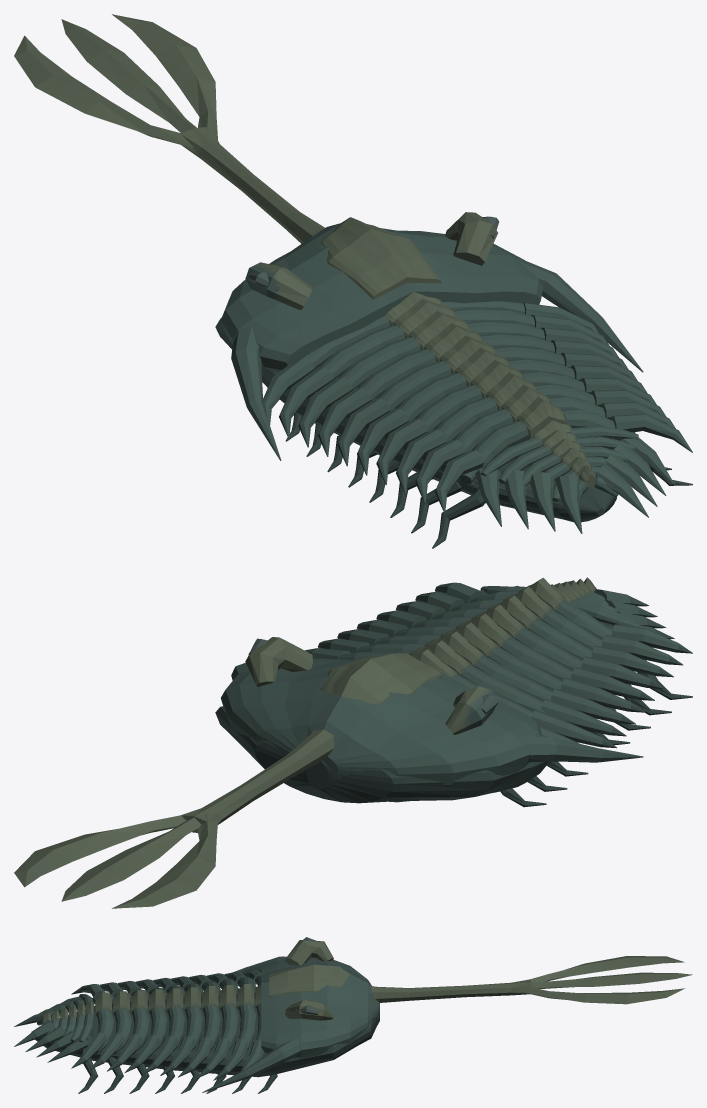
3 renders of one model, top to bottom at view 1: azimuth 30°, elevation 25°; view 2: azimuth 150°, elevation 25°; view 3: azimuth 270°, elevation 25°, orthographic. The views are drawn at different scales.
Parts seen in each view (by area): view 1: Broad vaulted cephalic shield, Cephalic axial glabella, Flattened keeled trident blade -1, Flattened keeled trident blade 1, Flattened keeled trident blade 0, Rigid anterior trident haft, Continuous ventral and articulating body, Curved genal spine -1, Curved genal spine 1, Eye peduncle 1, Eye peduncle -1, Bowed thoracic pleura -1 02 (+38 smaller); view 2: Broad vaulted cephalic shield, Continuous ventral and articulating body, Cephalic axial glabella, Rigid anterior trident haft, Flattened keeled trident blade 1, Flattened keeled trident blade -1, Flattened keeled trident blade 0, Eye peduncle 1, Curved genal spine -1, Eye peduncle -1, Bowed thoracic pleura -1 03, Bowed thoracic pleura -1 04 (+30 smaller); view 3: Broad vaulted cephalic shield, Continuous ventral and articulating body, Rigid anterior trident haft, Cephalic axial glabella, Flattened keeled trident blade 1, Flattened keeled trident blade 0, Flattened keeled trident blade -1, Curved genal spine 1, Eye peduncle -1, Eye peduncle 1, Bowed thoracic pleura 1 02, Bowed thoracic pleura 1 03 (+34 smaller).
Boxes of the visible parts, left/top/right/bottom form: Broad vaulted cephalic shield: left=220, top=223, right=543, bottom=372; Cephalic axial glabella: left=320, top=217, right=441, bottom=299; Flattened keeled trident blade -1: left=14, top=35, right=199, bottom=147; Flattened keeled trident blade 1: left=112, top=14, right=218, bottom=141; Flattened keeled trident blade 0: left=61, top=19, right=196, bottom=133; Rigid anterior trident haft: left=181, top=127, right=324, bottom=243; Continuous ventral and articulating body: left=215, top=317, right=616, bottom=522; Curved genal spine -1: left=231, top=326, right=281, bottom=460; Curved genal spine 1: left=518, top=260, right=643, bottom=372; Eye peduncle 1: left=445, top=212, right=497, bottom=265; Eye peduncle -1: left=245, top=262, right=312, bottom=309; Bowed thoracic pleura -1 02: left=314, top=325, right=405, bottom=393; Broad vaulted cephalic shield: left=221, top=658, right=542, bottom=802; Continuous ventral and articulating body: left=215, top=621, right=611, bottom=803; Cephalic axial glabella: left=320, top=653, right=441, bottom=703; Rigid anterior trident haft: left=181, top=729, right=334, bottom=832; Flattened keeled trident blade 1: left=14, top=811, right=198, bottom=887; Flattened keeled trident blade -1: left=112, top=813, right=218, bottom=908; Flattened keeled trident blade 0: left=61, top=817, right=200, bottom=901; Eye peduncle 1: left=245, top=637, right=312, bottom=686; Curved genal spine -1: left=518, top=735, right=643, bottom=762; Eye peduncle -1: left=445, top=686, right=495, bottom=734; Bowed thoracic pleura -1 03: left=460, top=664, right=545, bottom=713; Bowed thoracic pleura -1 04: left=473, top=655, right=553, bottom=701; Broad vaulted cephalic shield: left=261, top=957, right=379, bottom=1058; Continuous ventral and articulating body: left=31, top=986, right=379, bottom=1077; Rigid anterior trident haft: left=371, top=979, right=530, bottom=1002; Cephalic axial glabella: left=269, top=964, right=349, bottom=996; Flattened keeled trident blade 1: left=516, top=984, right=684, bottom=1004; Flattened keeled trident blade 0: left=530, top=972, right=692, bottom=988; Flattened keeled trident blade -1: left=519, top=956, right=684, bottom=982; Curved genal spine 1: left=202, top=1038, right=300, bottom=1092; Eye peduncle -1: left=285, top=940, right=333, bottom=965; Eye peduncle 1: left=285, top=999, right=333, bottom=1020; Bowed thoracic pleura 1 02: left=238, top=1003, right=256, bottom=1050; Bowed thoracic pleura 1 03: left=221, top=1004, right=239, bottom=1050.
Bounding box in the file's own units: 0.379 × 0.1531 × 1.
Materials: 2 (1 with a texture image).
